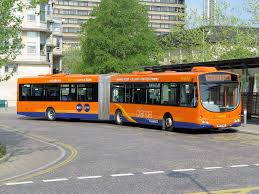bus: (15, 66, 243, 132)
